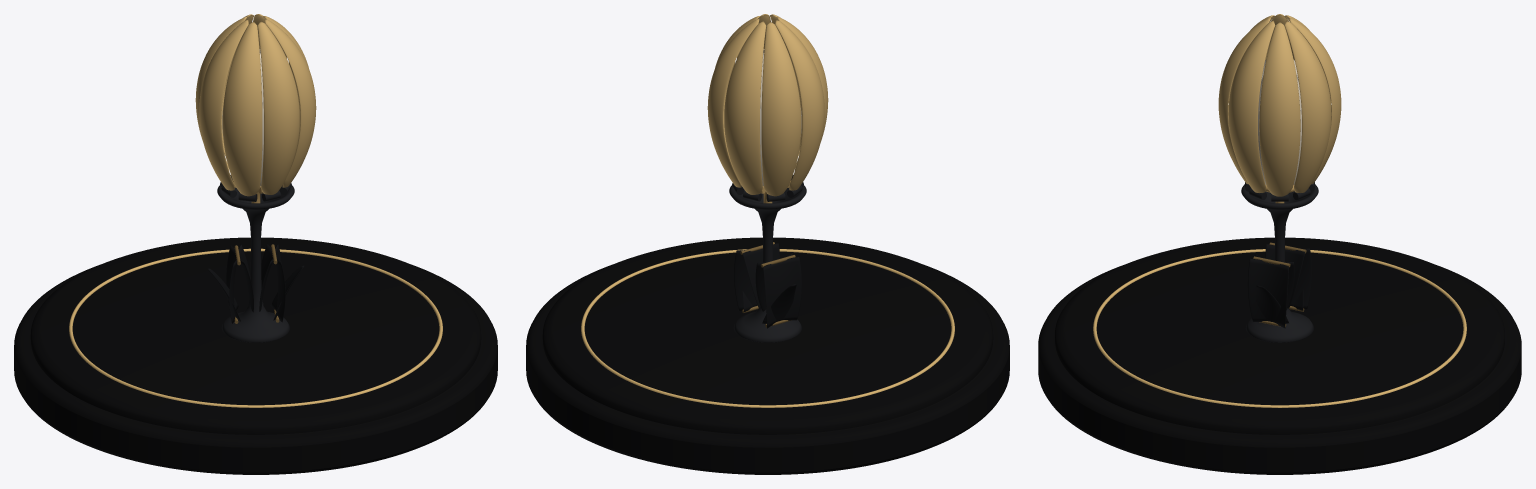
The model's file is flower.glb.
3 views of the same model, side by side, from view 1: azimuth 30°, elevation 25°; view 2: azimuth 150°, elevation 25°; view 3: azimuth 270°, elevation 25° (orthographic).
Parts seen in each view (by area): view 1: Pedestal, Outer Leader 8, Outer Leader, Stem, Outer Leader 7, Outer Leader 2, Outer Leader 6, Leaf 2 2, Leaf 2; view 2: Pedestal, Outer Leader 6, Outer Leader 5, Outer Leader 7, Stem, Outer Leader 4, Leaf 2 2, Leaf 2, Outer Leader 8, Leaf 1, Leaf 3 2; view 3: Pedestal, Outer Leader 3, Outer Leader 2, Outer Leader 4, Stem, Leaf 2, Outer Leader, Outer Leader 5, Leaf 2 2, Leaf 3, Leaf 1 2.
Part boxes in pixels (x1,y1,x2,y2): Pedestal: [14, 237, 497, 474]; Outer Leader 8: [222, 21, 262, 201]; Outer Leader: [257, 21, 299, 201]; Stem: [217, 179, 294, 342]; Outer Leader 7: [199, 20, 248, 197]; Outer Leader 2: [264, 19, 316, 194]; Outer Leader 6: [195, 17, 246, 186]; Leaf 2 2: [226, 245, 240, 323]; Leaf 2: [271, 244, 285, 322]; Pedestal: [526, 237, 1009, 474]; Outer Leader 6: [761, 21, 801, 201]; Outer Leader 5: [724, 21, 766, 201]; Outer Leader 7: [775, 20, 824, 197]; Stem: [729, 179, 806, 342]; Outer Leader 4: [707, 19, 759, 194]; Leaf 2 2: [760, 255, 801, 328]; Leaf 2: [734, 242, 774, 310]; Outer Leader 8: [777, 17, 828, 186]; Leaf 1: [742, 243, 780, 308]; Leaf 3 2: [762, 284, 796, 327]; Pedestal: [1038, 237, 1521, 474]; Outer Leader 3: [1259, 22, 1300, 201]; Outer Leader 2: [1228, 20, 1275, 199]; Outer Leader 4: [1284, 20, 1331, 199]; Stem: [1241, 184, 1318, 342]; Leaf 2: [1247, 256, 1290, 328]; Outer Leader: [1218, 18, 1270, 191]; Outer Leader 5: [1289, 18, 1341, 191]; Leaf 2 2: [1269, 241, 1312, 309]; Leaf 3: [1256, 285, 1288, 326]; Leaf 1 2: [1265, 244, 1305, 308].
Bounding box in the file's own units: 2.9 × 2.36 × 2.9.
